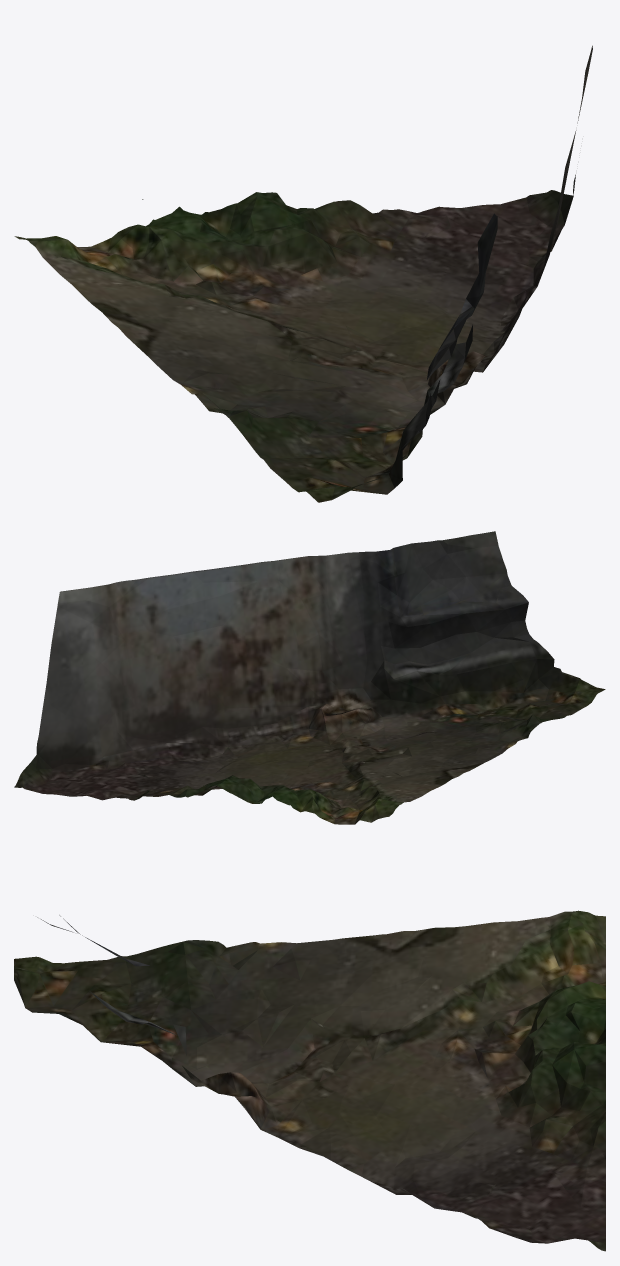
3 renders of one model, top to bottom at view 1: azimuth 30°, elevation 25°; view 2: azimuth 150°, elevation 25°; view 3: azimuth 270°, elevation 25°, orthographic. The views are drawn at different scales.
Size of the model in its own units: 1.67 by 0.7133 by 1.67.
Materials: 3 (3 with a texture image).
